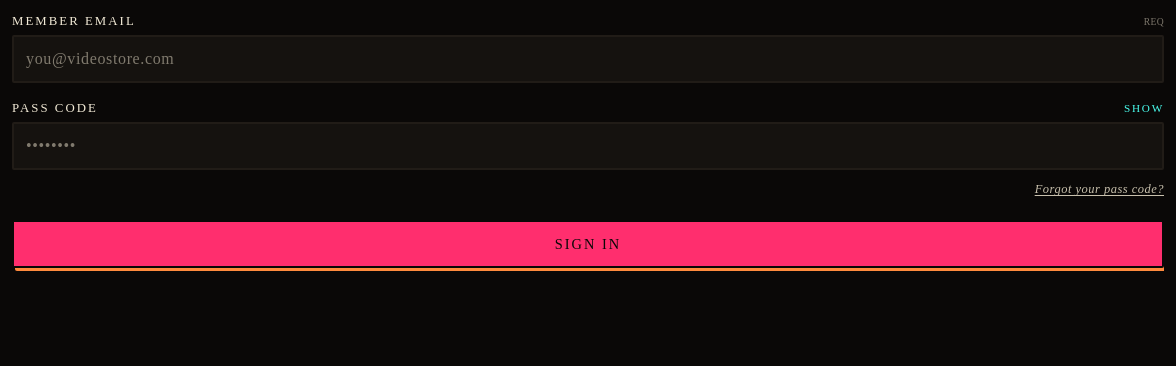
Test: LoginForm › should fall back to the generic error body when the action gives no message
Type "wrong@example.com" into the field labelled "Member email REQ". click: [588, 59]
box: [12,35,1164,83]
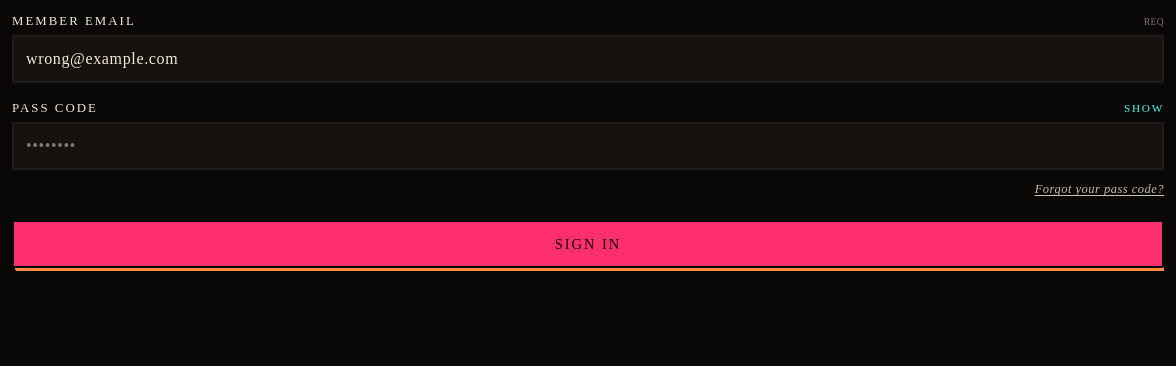
Type "x" into the password field labelled "Pass code". click: [588, 146]
box: [12,122,1164,170]
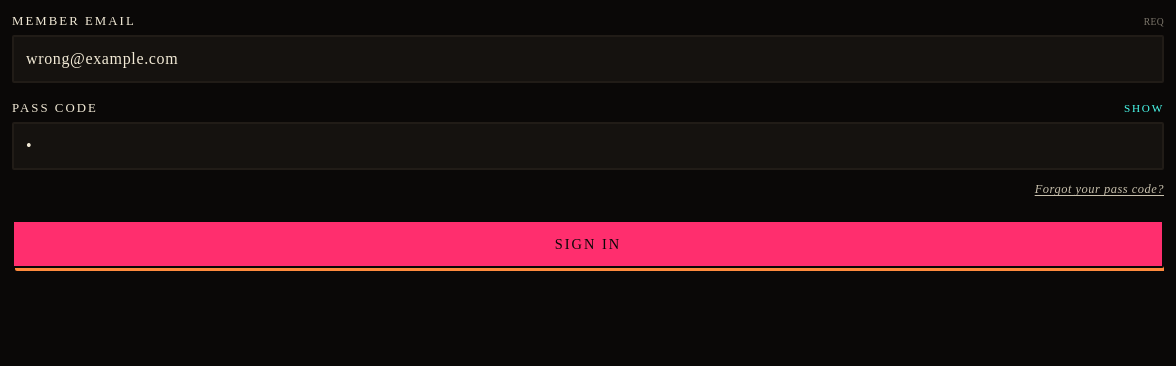
Click the button "Sign in". click: [588, 244]
box: [12,220,1164,268]
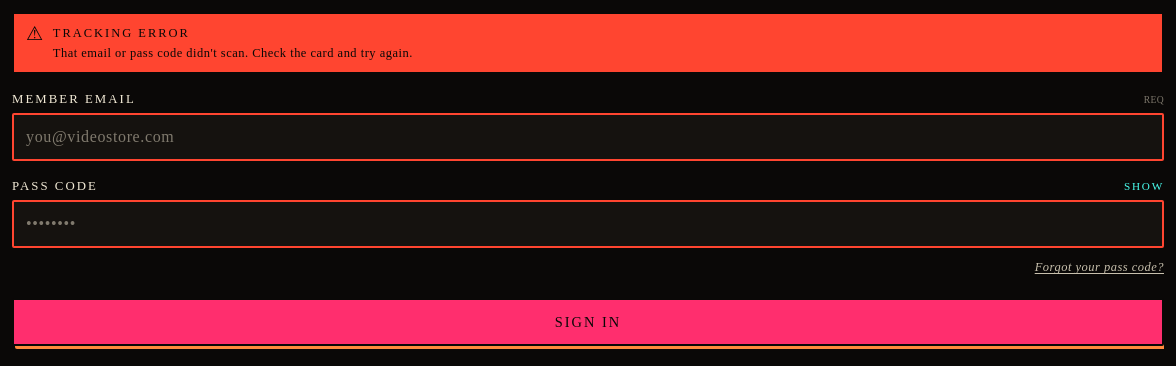
Now the message shows "That email or pass code didn't scan. Check the card and try again.", box [53,46,413,60]
